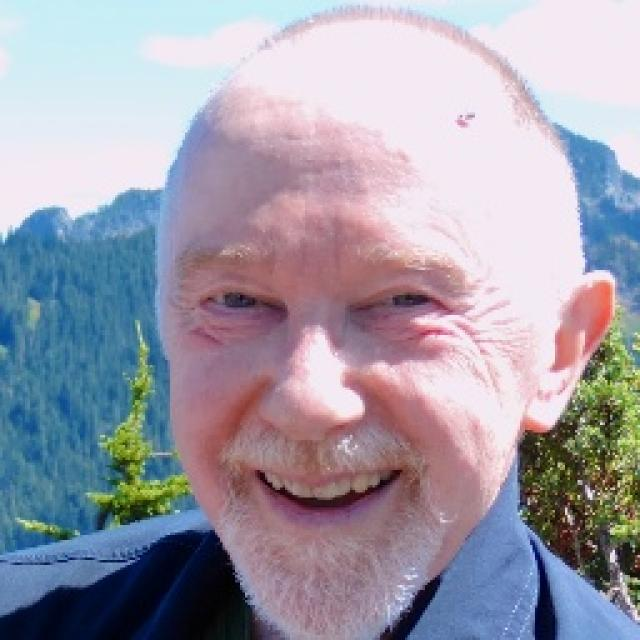earlobe: (524, 270, 618, 432)
